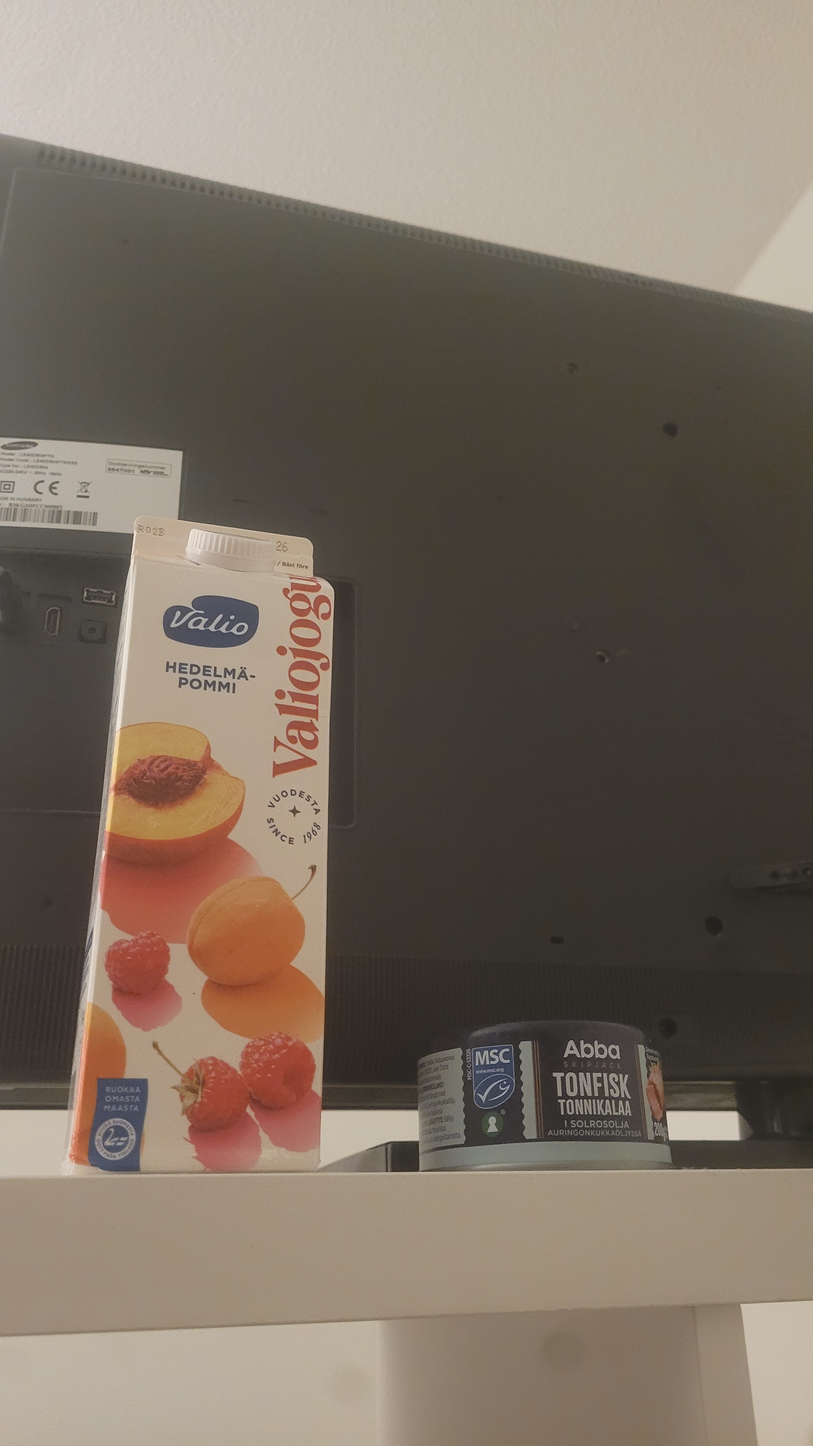Dryckeskartong: (68, 517, 336, 1173)
Konservburk: (414, 1018, 677, 1172)
